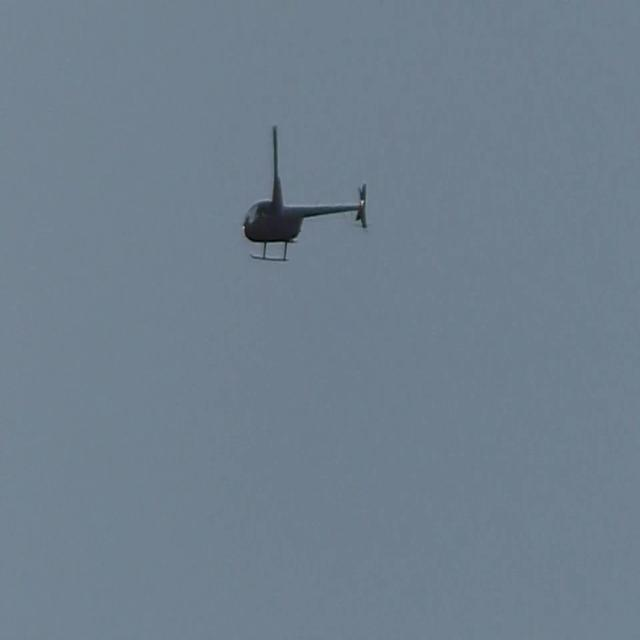CIV_HELO: (242, 174, 368, 264)
